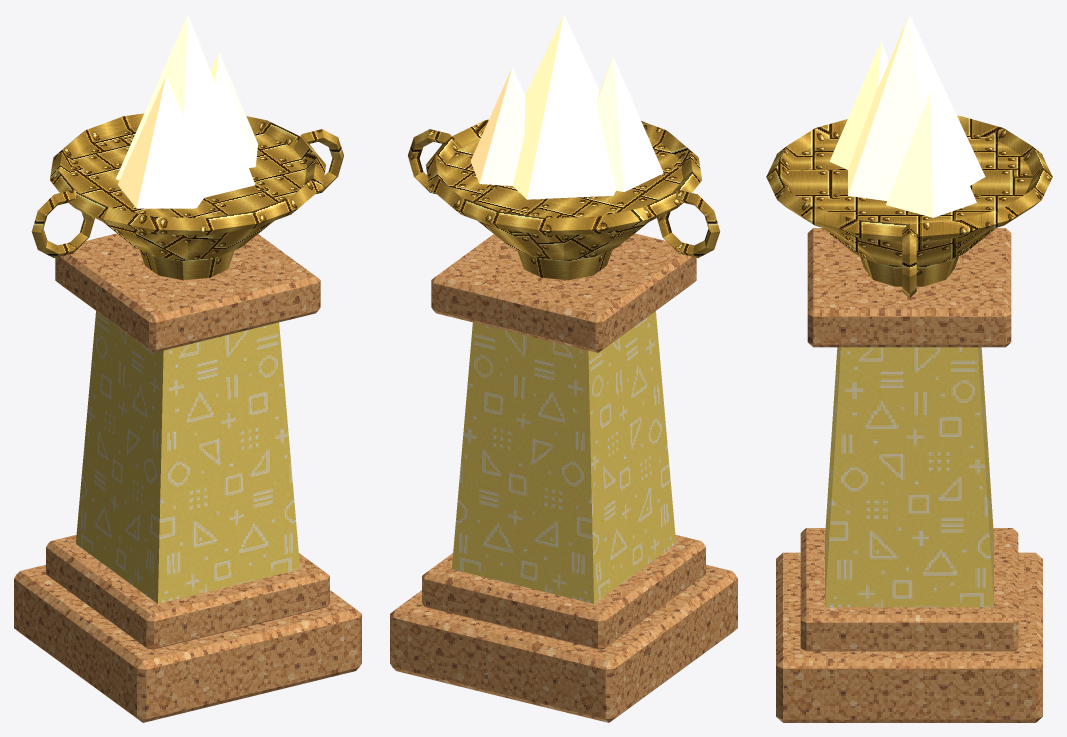
The model's file is ruins_brazier.glb.
3 renders of one model, left to right at view 1: azimuth 30°, elevation 25°; view 2: azimuth 150°, elevation 25°; view 3: azimuth 270°, elevation 25°, orthographic. The views are drawn at different scales.
Visible parts, largest first — view 1: Stand, Bowl, Flame; view 2: Stand, Bowl, Flame; view 3: Stand, Bowl, Flame.
Part boxes in pixels (bbox=[...]): Stand: bbox=[14, 233, 361, 722]; Bowl: bbox=[31, 113, 343, 280]; Flame: bbox=[116, 14, 258, 208]; Stand: bbox=[390, 233, 737, 722]; Bowl: bbox=[408, 119, 720, 280]; Flame: bbox=[470, 14, 663, 199]; Stand: bbox=[776, 228, 1042, 722]; Bowl: bbox=[766, 115, 1052, 298]; Flame: bbox=[829, 14, 985, 217].
Size of the model in its own units: 2.64 by 5.15 by 2.04.
6 materials, 3 textured.
